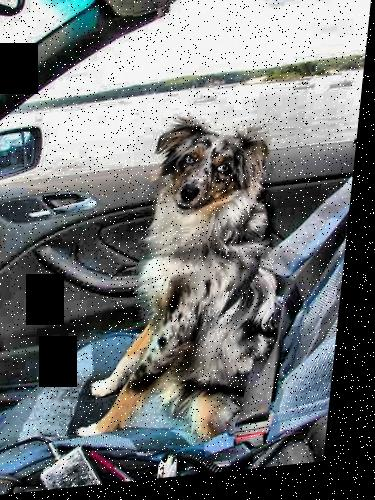seatbelt: (231, 298, 312, 454)
